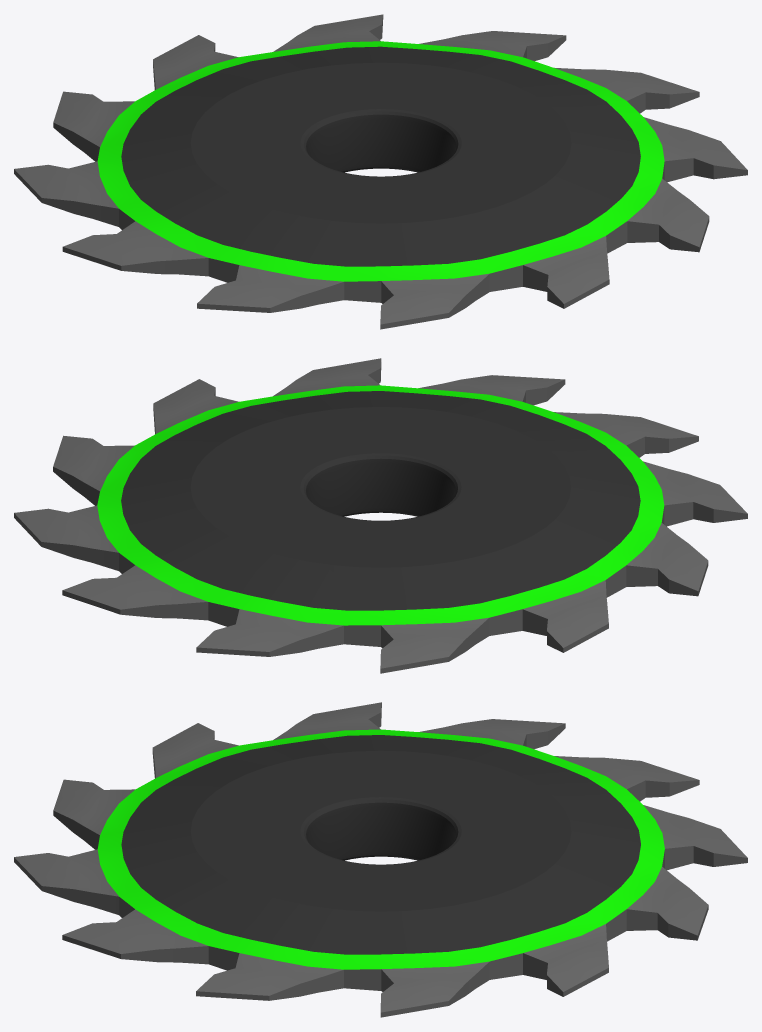
The model's file is saw01.FBX.
The picture shows the model from 3 angles, top to bottom: view 1: azimuth 30°, elevation 25°; view 2: azimuth 150°, elevation 25°; view 3: azimuth 270°, elevation 25°; orthographic projection.
Parts seen in each view (by area): view 1: saw02; view 2: saw02; view 3: saw02.
Boxes of the visible parts, x1,y1,x2,y2 form: saw02: [14, 14, 747, 329]; saw02: [14, 358, 747, 673]; saw02: [14, 702, 747, 1017].
Size of the model in its own units: 52.2 by 4.62 by 52.17.
